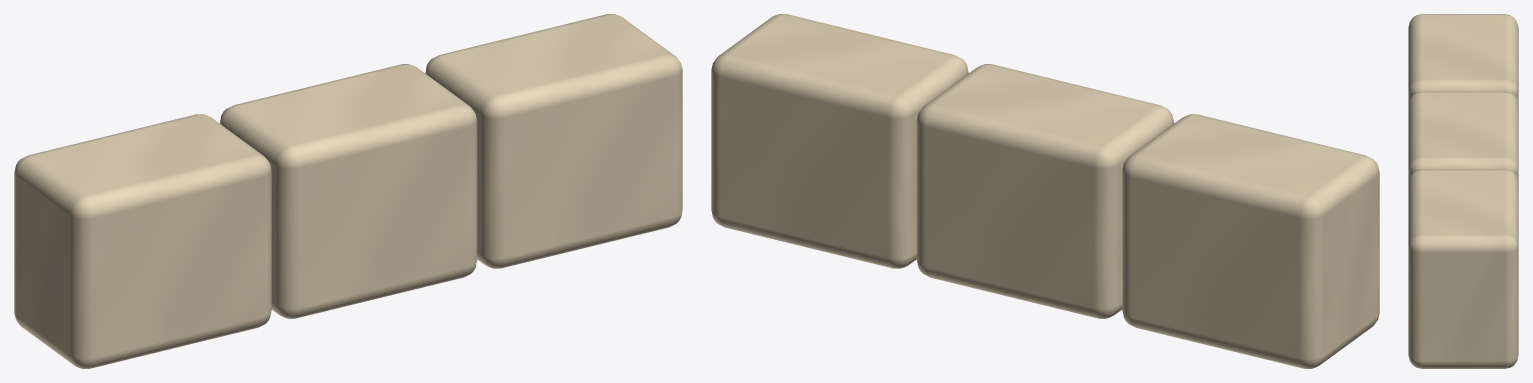
The model's file is flowerbed-edging-straight.glb.
The picture shows the model from 3 angles, left to right: view 1: azimuth 30°, elevation 25°; view 2: azimuth 150°, elevation 25°; view 3: azimuth 270°, elevation 25°; orthographic projection. The views are drawn at different scales.
Visible parts, largest first — view 1: flowerbed-edging-straight-tree-bench-stone; view 2: flowerbed-edging-straight-tree-bench-stone; view 3: flowerbed-edging-straight-tree-bench-stone.
Boxes of the visible parts, <box> form: flowerbed-edging-straight-tree-bench-stone: <box>14,14,682,368</box>; flowerbed-edging-straight-tree-bench-stone: <box>711,14,1379,368</box>; flowerbed-edging-straight-tree-bench-stone: <box>1408,14,1518,368</box>.
Bounding box in the file's own units: 1.78 × 0.48 × 0.36.
1 material, 1 textured.
